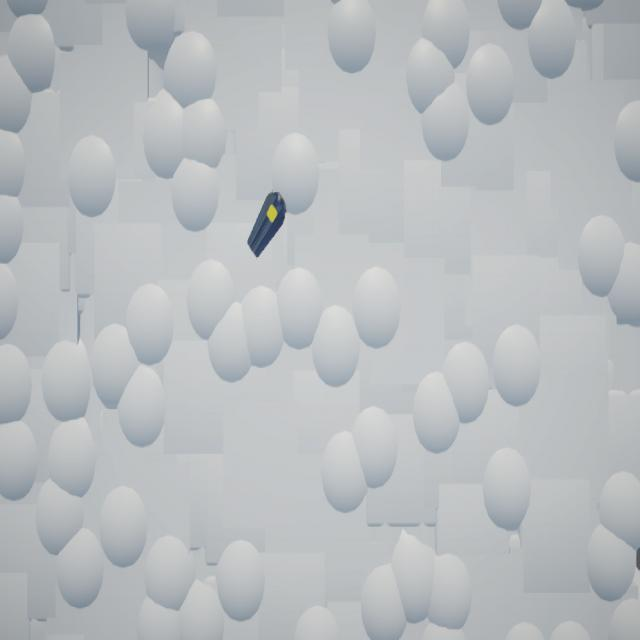handle_folk: (248, 192, 287, 260)
